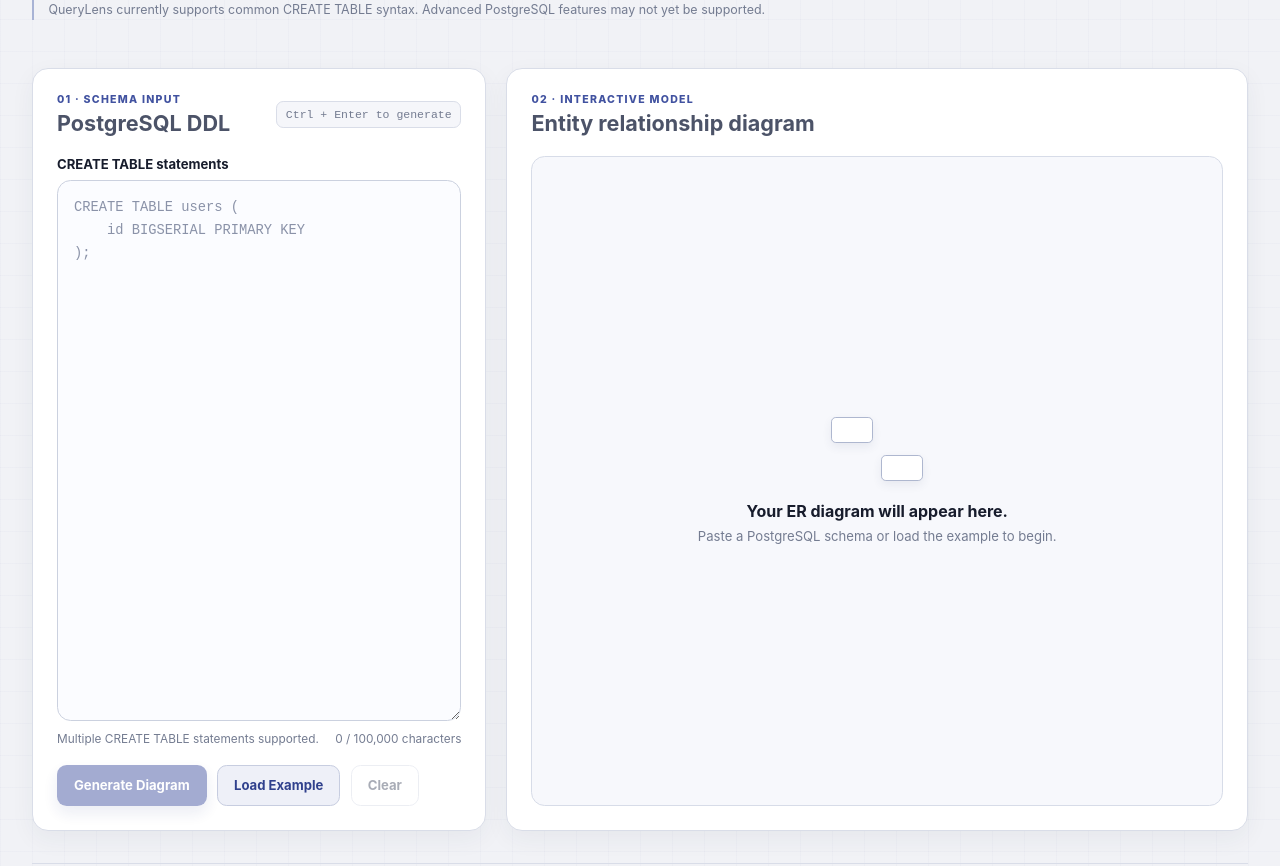
Scenario: App › shows deduplicated structured errors and preserves SQL
(page scrolled)
Type "DROP TABLE users;" into the text box labelled "CREATE TABLE statements". click: (259, 451)
box: 57,180 -> 462,721
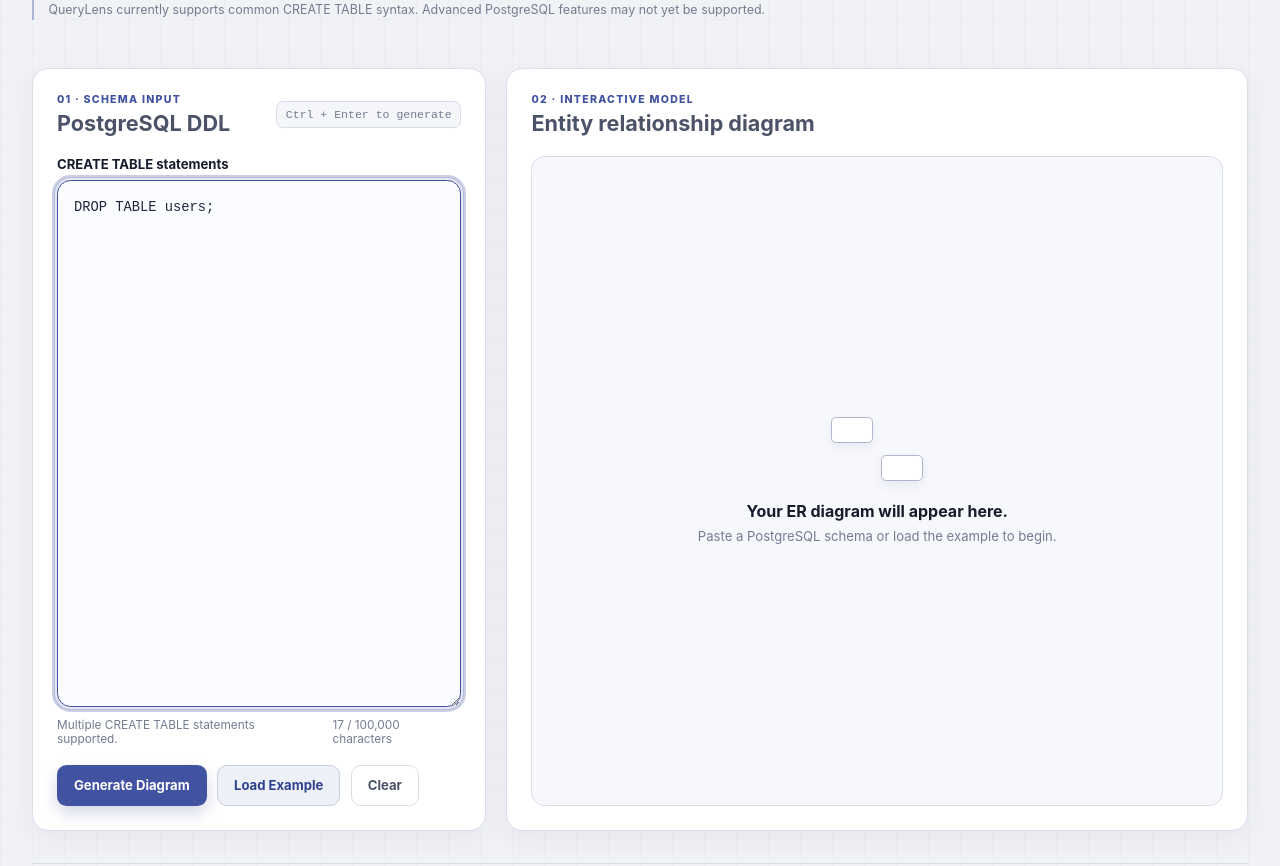
Click the button "Generate Diagram". click: (132, 785)
box: 57,765 -> 207,806
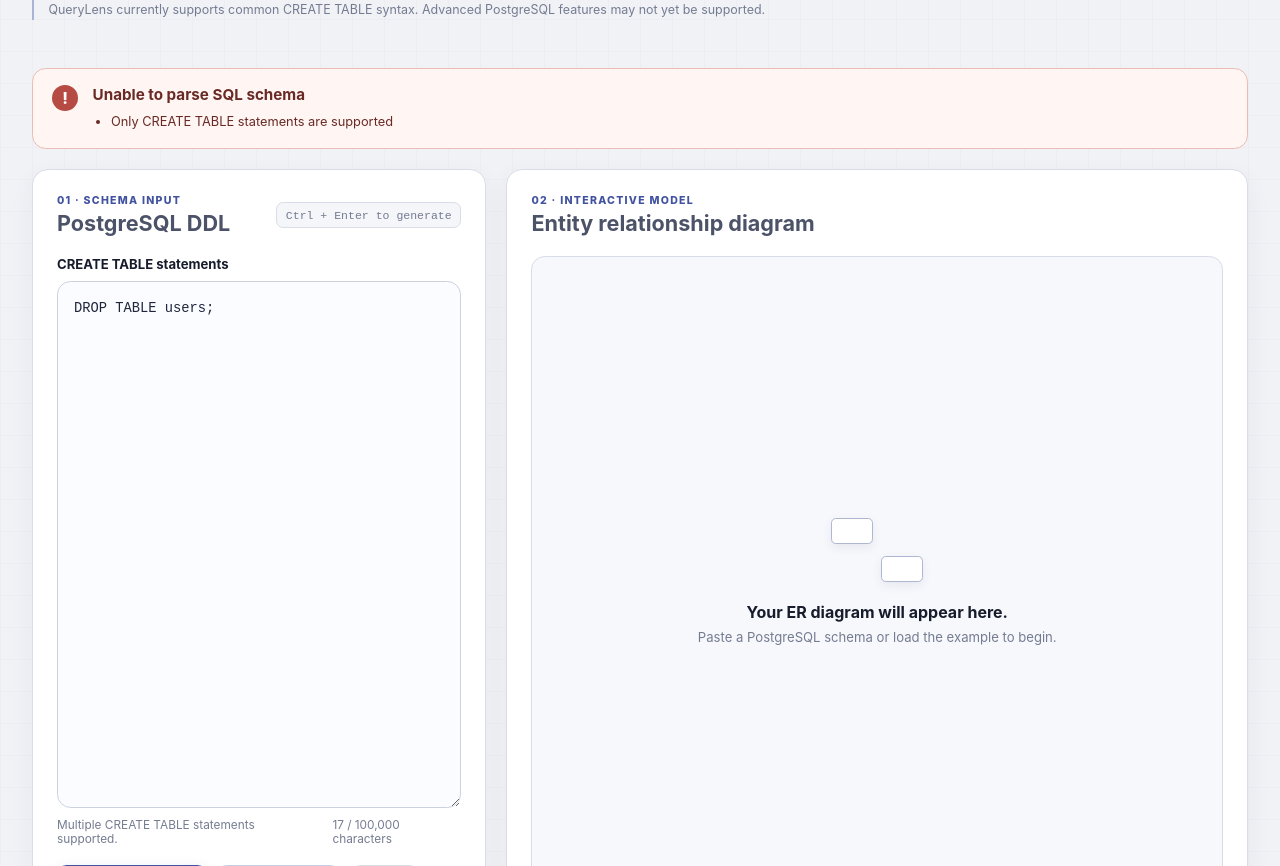
Expected: the message shows "Unable to parse SQL schema", 93,85 -> 305,104
Expected: the number of list items "Only CREATE TABLE statements are supported" is 1, 111,112 -> 393,132
